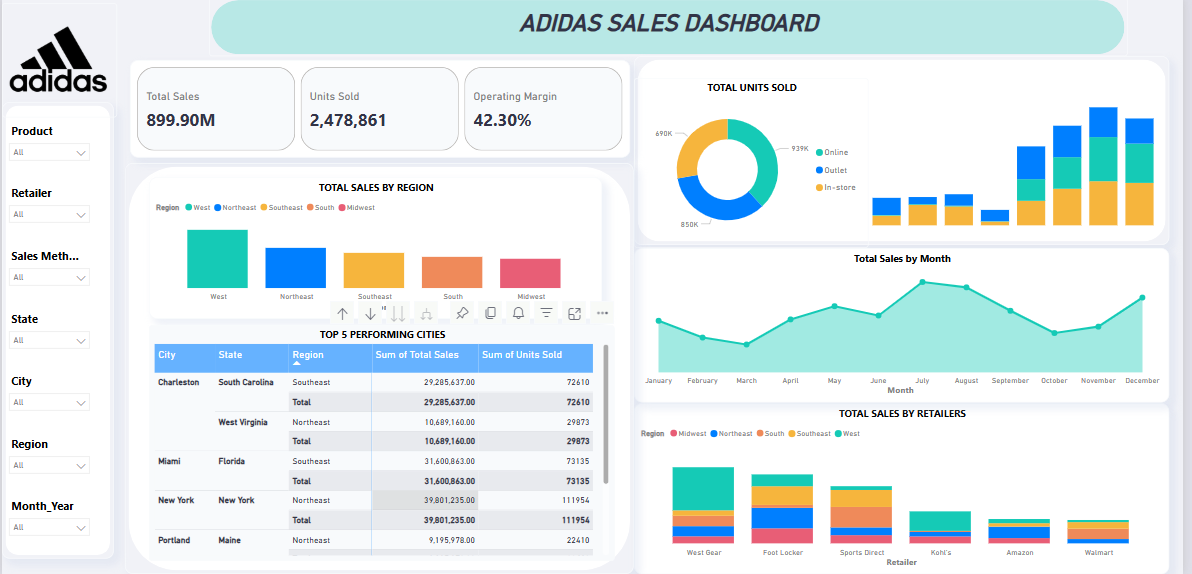

Layout of this report page (visuals, bound fields, positions):
{"tool":"powerbi","page":{"name":"Page 1","canvas":[1680,820],"ordinal":0},"visuals":[{"type":"shape","box":[899.6,83.1,762.3,269.2],"z":0},{"type":"cardVisual","fields":{"Data":["Measure_.Total Sales","Measure_.Units Sold","Measure_.Operating Margin"]},"box":[182.5,88.5,711.7,139.1],"z":1000},{"type":"donutChart","title":"TOTAL UNITS SOLD","fields":{"Y":["Measure_.Units Sold"],"Category":["Data Sales Adidas.Sales Method"]},"box":[899.6,113.8,334.2,242.1],"z":2000},{"type":"columnChart","fields":{"Y":["Measure_.Total Sales"],"Category":["Data Sales Adidas.Invoice Date.Variation.Date Hierarchy.Year","Data Sales Adidas.Invoice Date.Variation.Date Hierarchy.Quarter"],"Series":["Data Sales Adidas.Sales Method"]},"box":[1233.8,110.2,411.9,220.4],"z":3000},{"type":"columnChart","title":"TOTAL SALES BY RETAILERS","fields":{"Y":["Measure_.Total Sales"],"Category":["Data Sales Adidas.Retailer"],"Series":["Data Sales Adidas.Region"]},"box":[899.6,576.3,762.3,243.9],"z":4000},{"type":"areaChart","fields":{"Category":["Data Sales Adidas.Invoice Date.Variation.Date Hierarchy.Month"],"Y":["Measure_.Total Sales"]},"box":[899.6,355.9,762.3,220.4],"z":5000},{"type":"shape","box":[175.2,234.8,724.4,585.3],"z":6000},{"type":"columnChart","title":"TOTAL SALES BY REGION","fields":{"Y":["Measure_.Total Sales"],"Series":["Data Sales Adidas.Region"],"Category":["Data Sales Adidas.Region"]},"box":[209.5,254.7,644.9,202.3],"z":7000},{"type":"pivotTable","title":"TOP 5 PERFORMING CITIES","fields":{"Rows":["Data Sales Adidas.City","Data Sales Adidas.State","Data Sales Adidas.Region"],"Values":["Sum(Data Sales Adidas.Total Sales)","Sum(Data Sales Adidas.Units Sold)"]},"box":[209.5,466.1,663,336],"z":8000},{"type":"shape","box":[0,148.1,159,650.3],"z":9000},{"type":"slicer","fields":{"Values":["Data Sales Adidas.Product"]},"box":[0,173.4,135.5,93.9],"z":10000},{"type":"slicer","fields":{"Values":["Data Sales Adidas.Retailer"]},"box":[0,262.5,135.5,93.9],"z":11000},{"type":"slicer","fields":{"Values":["Data Sales Adidas.Sales Method"]},"box":[0,351.7,135.5,93.9],"z":12000},{"type":"slicer","fields":{"Values":["Data Sales Adidas.State"]},"box":[0,440.8,135.5,93.9],"z":13000},{"type":"slicer","fields":{"Values":["Data Sales Adidas.City"]},"box":[0,529.9,135.5,93.9],"z":14000},{"type":"slicer","fields":{"Values":["Data Sales Adidas.Region"]},"box":[0,619,135.5,93.9],"z":15000},{"type":"slicer","fields":{"Values":["Data Sales Adidas.Month_Year"]},"box":[0,708.1,135.5,93.9],"z":16000},{"type":"image","box":[0,7.2,164.4,162.6],"z":16001},{"type":"shape","box":[294.5,0,1307.9,83.1],"z":16002},{"type":"textbox","box":[319.7,10.8,1257.3,54.2],"z":16003}]}

Visuals, with their boxes in screenshot pixels (x1, y1, x2, y2), scaled from the page's 1680x820 canvas onto the 1192x574 screenshot:
shape: <bbox>638, 58, 1179, 247</bbox>
cardVisual - Measure_.Total Sales x Measure_.Units Sold: <bbox>129, 62, 634, 159</bbox>
"TOTAL UNITS SOLD" donutChart: <bbox>638, 80, 875, 249</bbox>
columnChart - Measure_.Total Sales x Data Sales Adidas.Invoice Date.Variation.Date Hierarchy.Year: <bbox>875, 77, 1168, 231</bbox>
"TOTAL SALES BY RETAILERS" columnChart: <bbox>638, 403, 1179, 573</bbox>
areaChart - Data Sales Adidas.Invoice Date.Variation.Date Hierarchy.Month x Measure_.Total Sales: <bbox>638, 249, 1179, 403</bbox>
shape: <bbox>124, 164, 638, 573</bbox>
"TOTAL SALES BY REGION" columnChart: <bbox>149, 178, 606, 320</bbox>
"TOP 5 PERFORMING CITIES" pivotTable: <bbox>149, 326, 619, 561</bbox>
shape: <bbox>0, 104, 113, 559</bbox>
slicer - Data Sales Adidas.Product: <bbox>0, 121, 96, 187</bbox>
slicer - Data Sales Adidas.Retailer: <bbox>0, 184, 96, 249</bbox>
slicer - Data Sales Adidas.Sales Method: <bbox>0, 246, 96, 312</bbox>
slicer - Data Sales Adidas.State: <bbox>0, 309, 96, 374</bbox>
slicer - Data Sales Adidas.City: <bbox>0, 371, 96, 437</bbox>
slicer - Data Sales Adidas.Region: <bbox>0, 433, 96, 499</bbox>
slicer - Data Sales Adidas.Month_Year: <bbox>0, 496, 96, 561</bbox>
image: <bbox>0, 5, 117, 119</bbox>
shape: <bbox>209, 0, 1137, 58</bbox>
textbox: <bbox>227, 8, 1119, 46</bbox>
